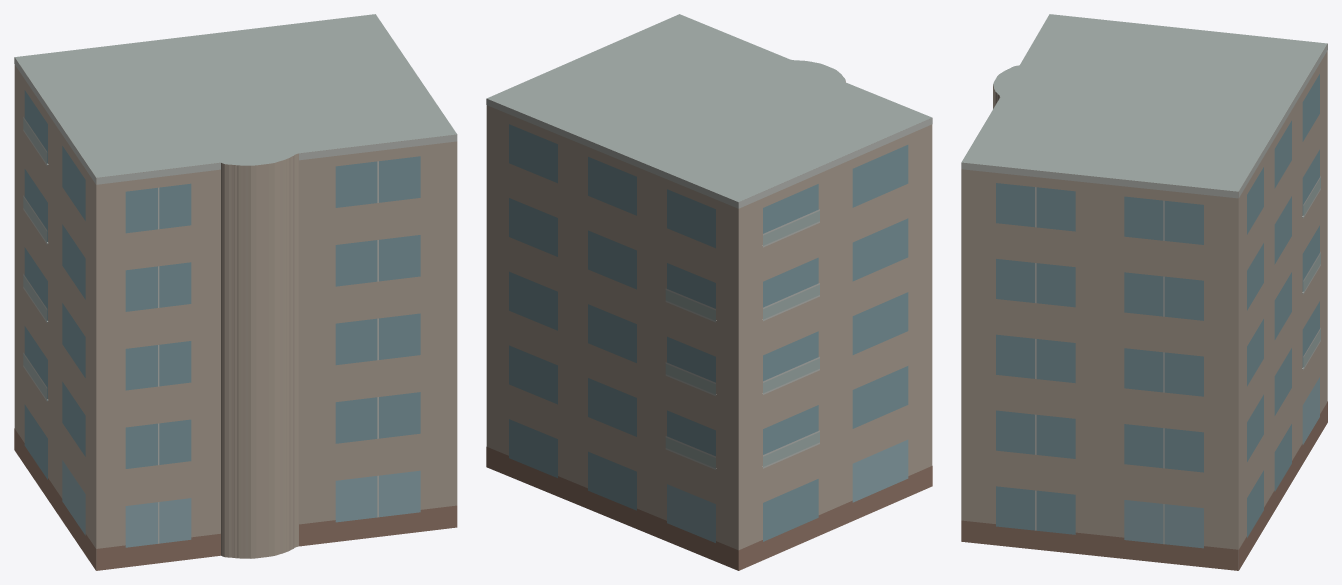
Rendered from survey-upis-32583991.glb.
3 renders of one model, left to right at view 1: azimuth 30°, elevation 25°; view 2: azimuth 150°, elevation 25°; view 3: azimuth 270°, elevation 25°, orthographic. The views are drawn at different scales.
Visible parts, largest first — view 1: survey-upis-32583991.tmp; view 2: survey-upis-32583991.tmp; view 3: survey-upis-32583991.tmp.
Part boxes in pixels (box(x1,y1,x2,y2)): survey-upis-32583991.tmp: box(14, 14, 457, 570); survey-upis-32583991.tmp: box(486, 14, 932, 570); survey-upis-32583991.tmp: box(961, 14, 1327, 570).
Bounding box in the file's own units: 13.78 × 13.7 × 12.01.
